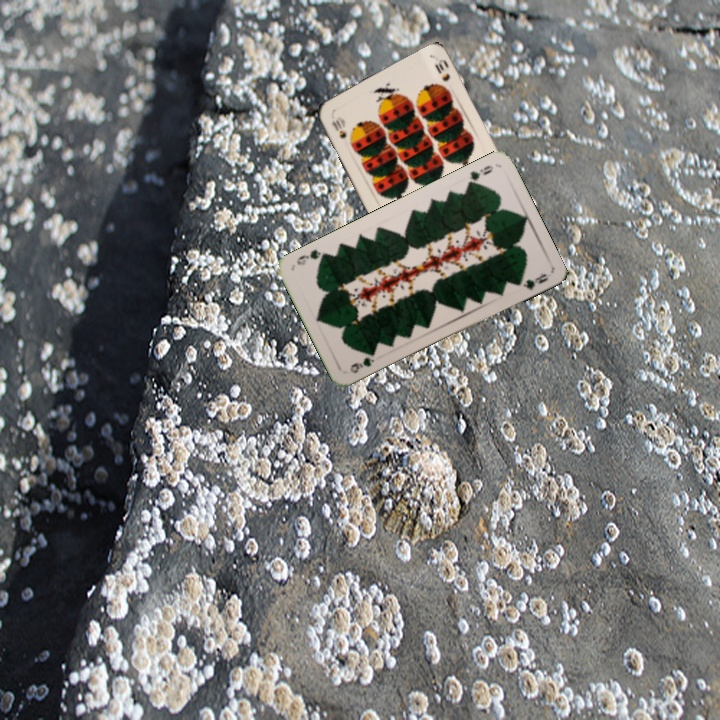G9: (463, 161, 496, 190), (345, 353, 377, 376)
S10: (328, 116, 349, 141)
